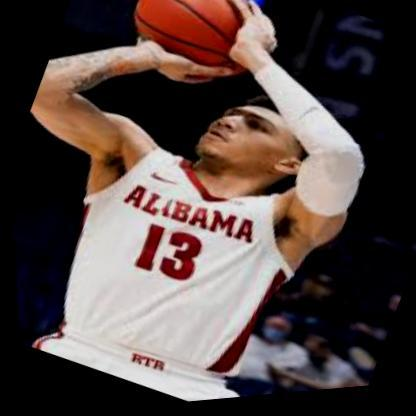basketball: (114, 0, 281, 105)
